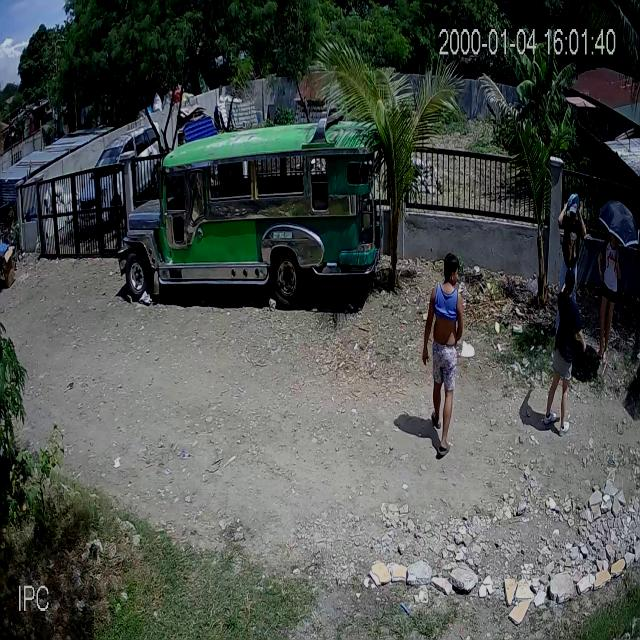standing: (545, 269, 580, 437), (592, 227, 617, 367), (559, 188, 585, 306)
walking: (422, 253, 464, 456)
